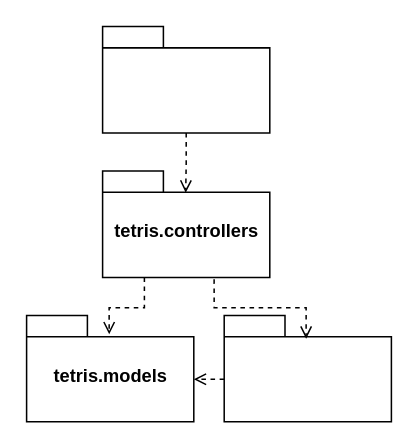
The diagram is 418 pixels wide and 448 high, and some of its shapes have lost their labels. The shapes that lost their labels are listed below. From the top down, each one's centre as x and y in pixels, then its label:
At pixel 185 79: "tetris.views".
At pixel 307 368: "tetris.daos".
